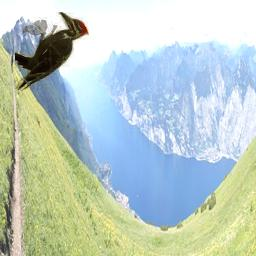Woodpecker: (15, 12, 89, 91)
